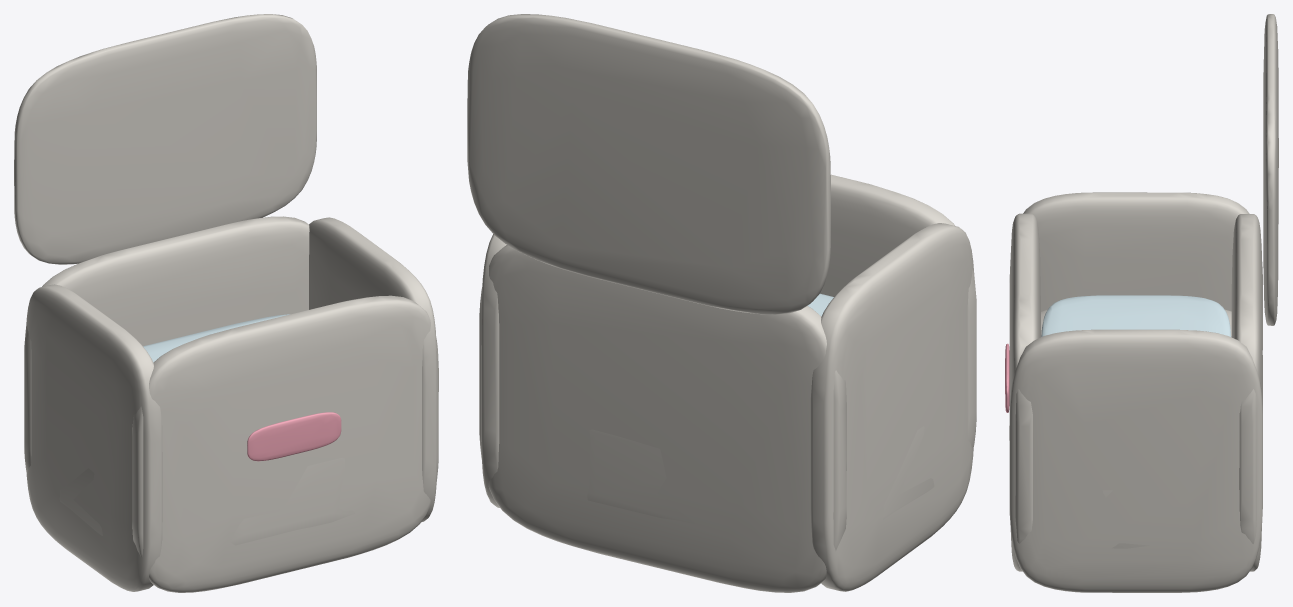
File: vitrina_congelador_1.glb
3 renders of one model, left to right at view 1: azimuth 30°, elevation 25°; view 2: azimuth 150°, elevation 25°; view 3: azimuth 270°, elevation 25°, orthographic. The views are drawn at different scales.
Visible parts, largest first — view 1: pared.002, tapa abierta, pared, pared.003, pared.001, cuerpo bajo, logo.001, hielo; view 2: tapa abierta, pared.003, pared, pared.002, cuerpo bajo, pared.001; view 3: pared.001, pared, pared.002, pared.003, hielo, tapa abierta.
Part boxes in pixels (x1,y1,x2,y2): pared.002: (132, 295, 438, 592); tapa abierta: (14, 14, 316, 264); pared: (26, 284, 162, 591); pared.003: (24, 216, 309, 473); pared.001: (309, 217, 437, 522); cuerpo bajo: (59, 458, 355, 545); logo.001: (247, 412, 341, 461); hielo: (143, 314, 289, 362); tapa abierta: (467, 14, 830, 314); pared.003: (479, 245, 846, 592); pared: (810, 223, 974, 591); pared.002: (820, 174, 976, 449); cuerpo bajo: (587, 426, 934, 524); pared.001: (481, 234, 506, 507); pared.001: (1009, 329, 1262, 592); pared: (1009, 192, 1262, 349); pared.002: (1009, 213, 1040, 571); pared.003: (1231, 214, 1262, 571); hielo: (1041, 295, 1231, 336); tapa abierta: (1263, 14, 1278, 325).
Size of the model in its own units: 0.8998 by 1.28 by 0.6908.
